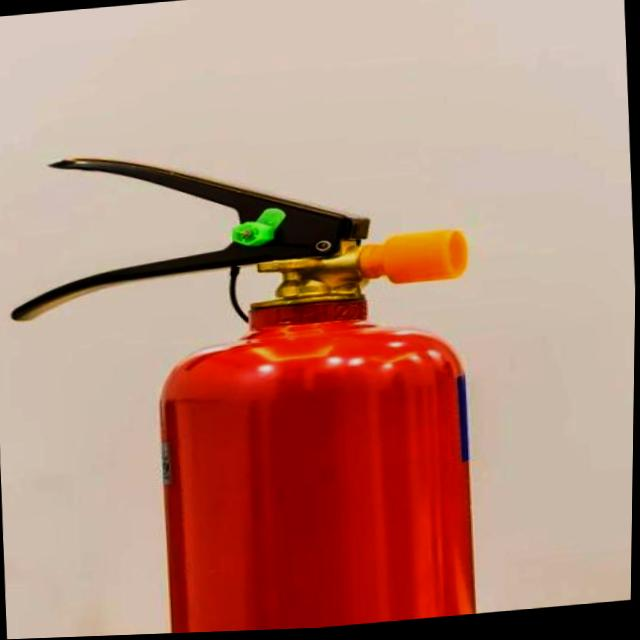FireExtinguisher: (0, 111, 504, 640)
